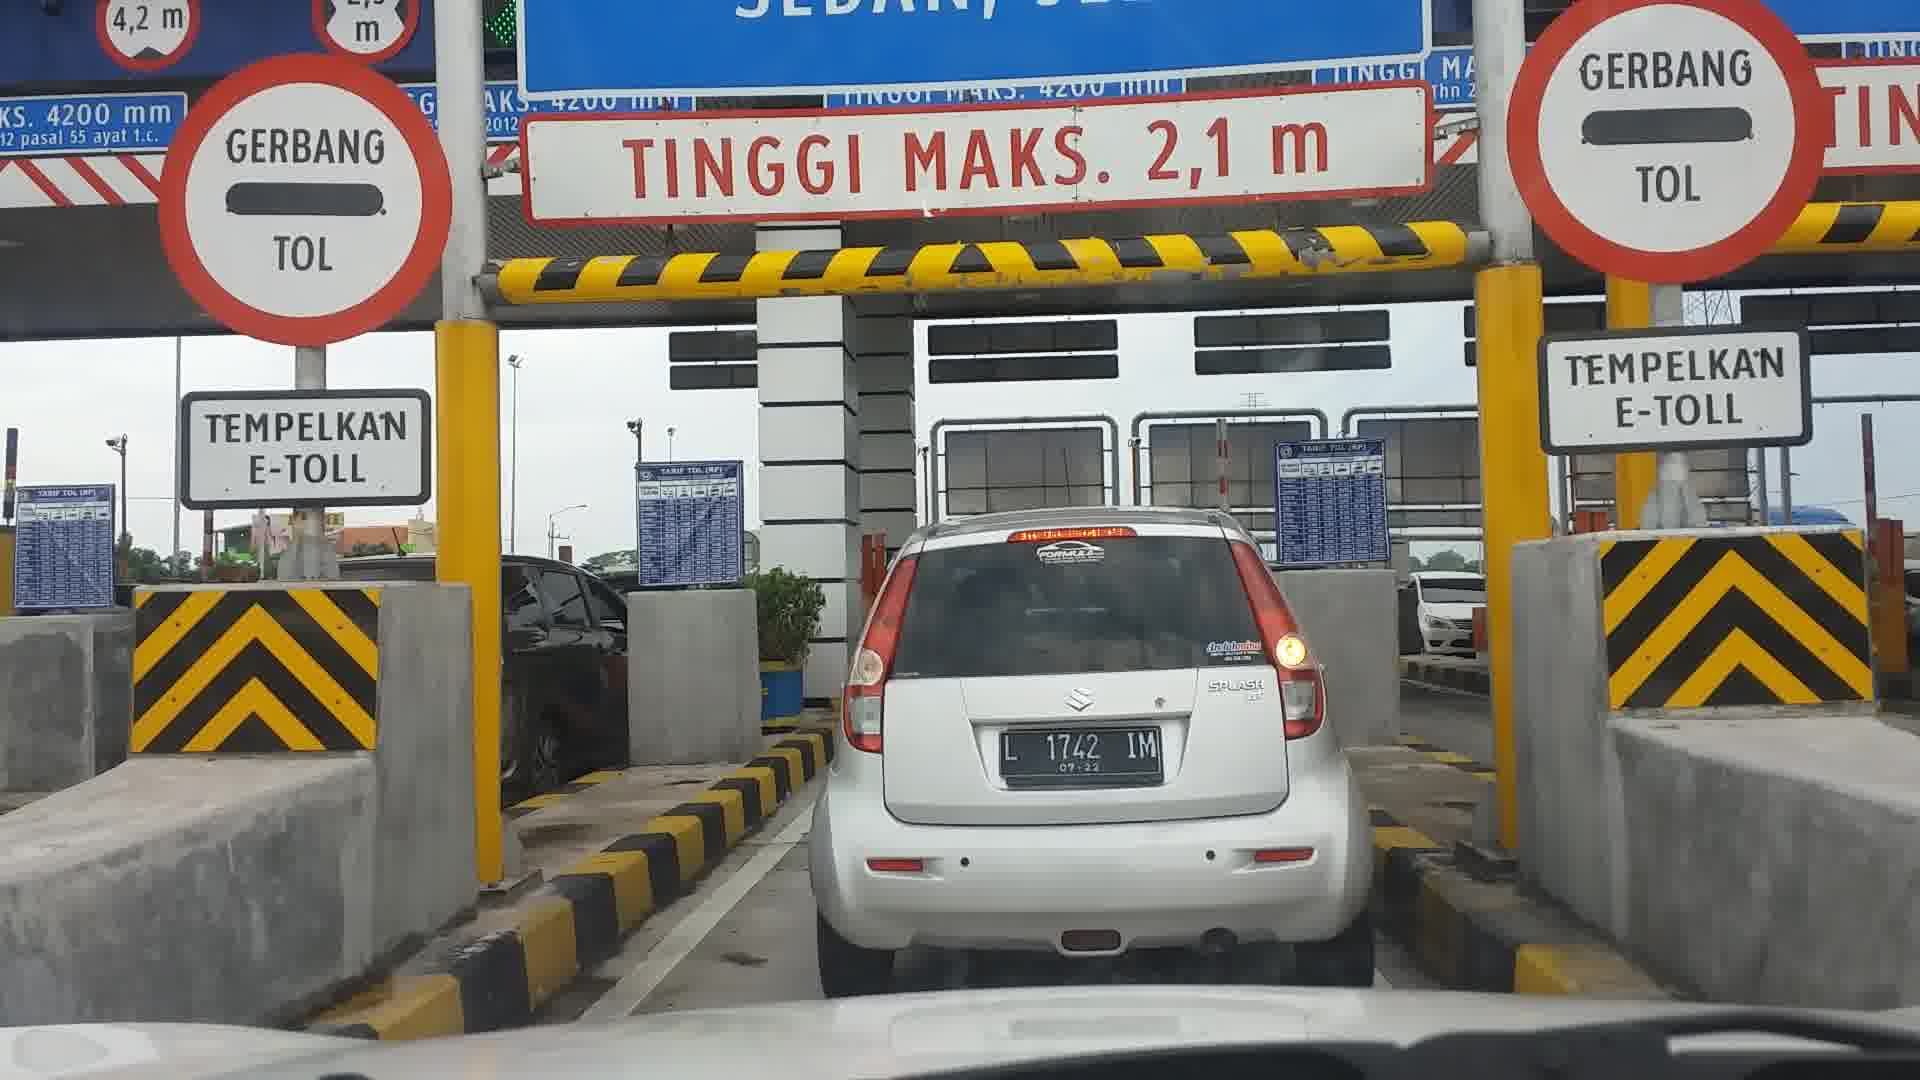plate_positive: (998, 728, 1164, 789)
